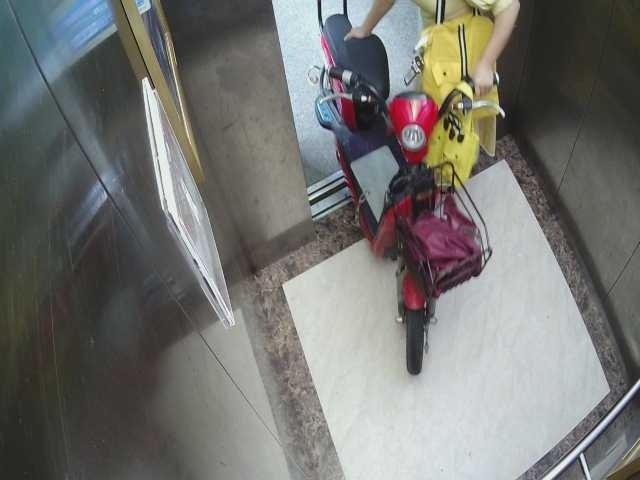emotor: (308, 10, 483, 370)
handbag: (419, 15, 504, 107)
